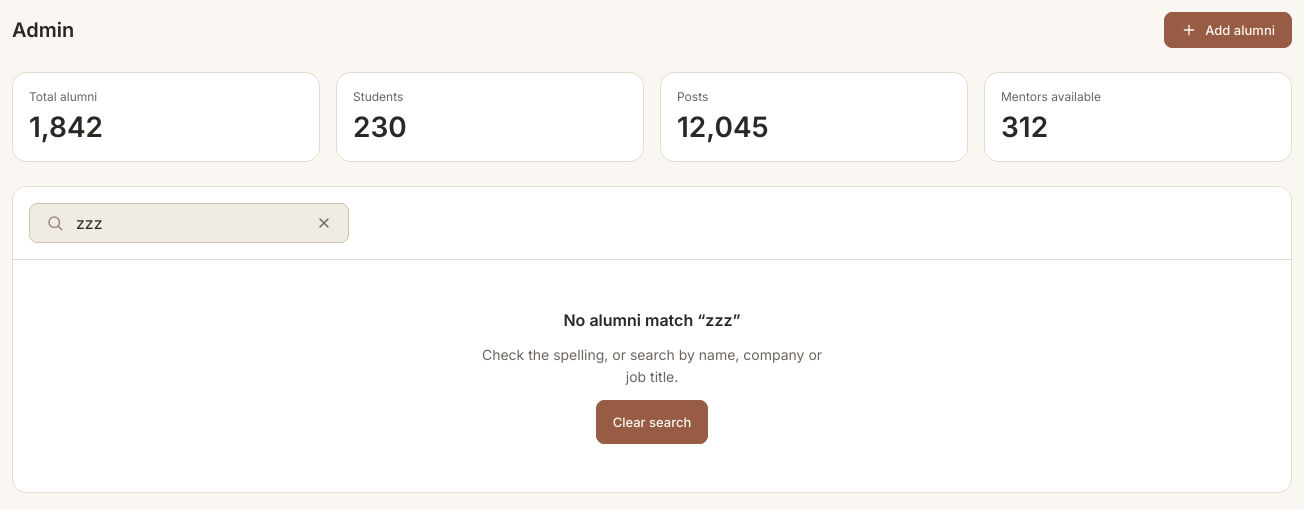
Test: AdminPage › shows the no-match state, and Clear search drops q and focuses the box
This screenshot has width=1304, height=510.
expect the heading "No alumni match “zzz”" is shown: met, box [564,308,740,332]
expect the search field named "Search alumni" holds "zzz": met, box [76,212,300,234]
Click the button "Clear search" at point(652, 422), box [596,400,708,444]
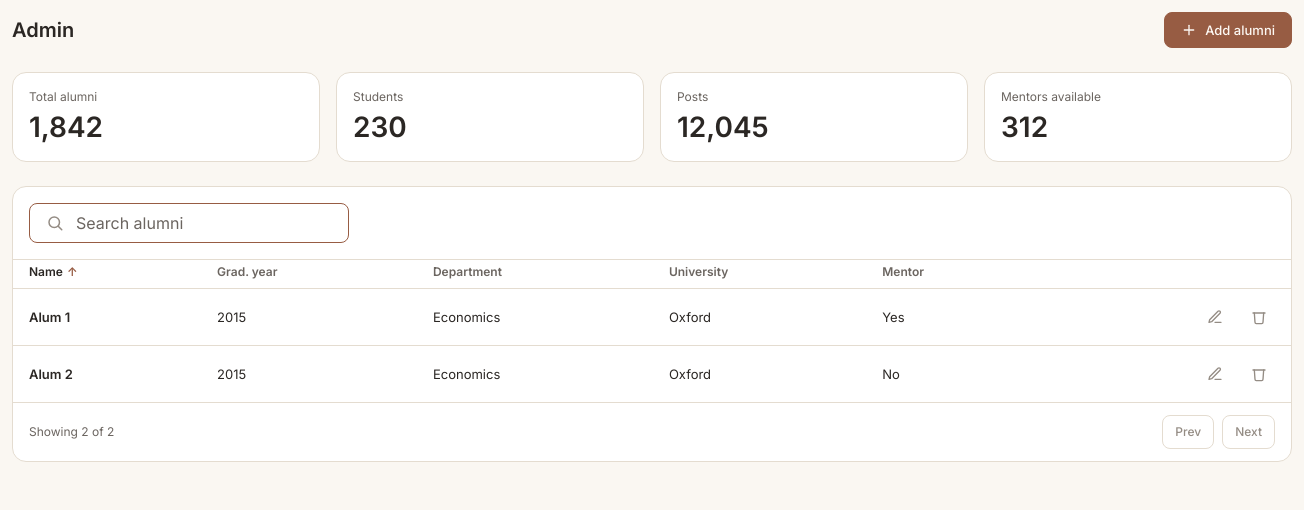
expect the column heading "Alum 1" is shown: met, box [13,288,201,346]
expect the search field labelled "Search alumni" is empty: met, box [76,212,332,234]
